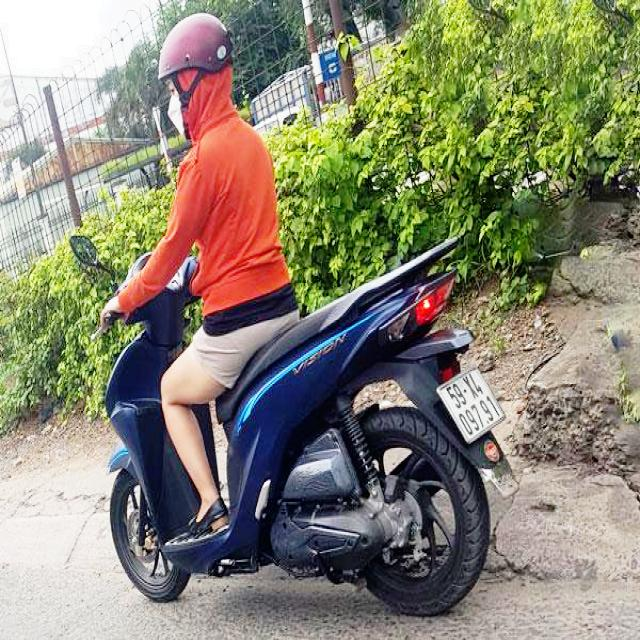license_plate: (440, 368, 508, 445)
